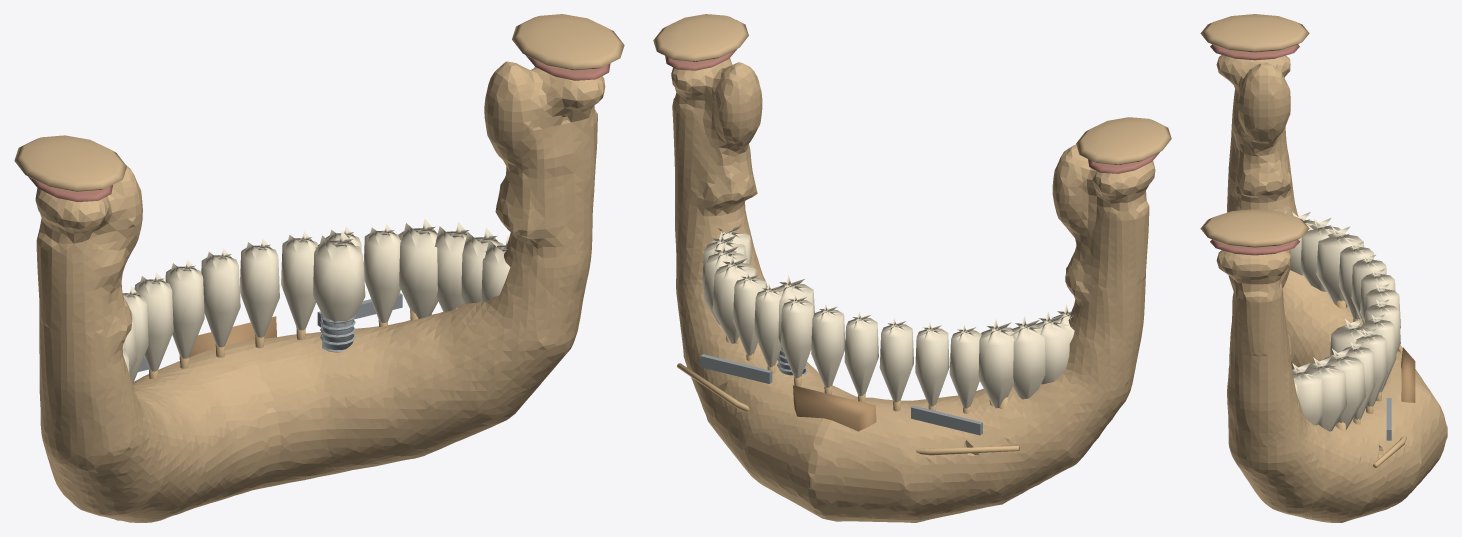
File: jaw.glb
3 views of the same model, side by side, from view 1: azimuth 30°, elevation 25°; view 2: azimuth 150°, elevation 25°; view 3: azimuth 270°, elevation 25° (orthographic). The views are drawn at different scales.
Visible parts, largest first — view 1: Mandible_Continuous, TMJ_Temporal_Fossa.001, TMJ_Temporal_Fossa, Implant_Ceramic_Crown_Crown, Teeth_13_Crown, Teeth_09_Crown, Teeth_08_Crown, Teeth_12_Crown, Teeth_07_Crown, Teeth_10_Crown, Teeth_06_Crown, Teeth_14_Crown (+6 smaller); view 2: Mandible_Continuous, TMJ_Temporal_Fossa, TMJ_Temporal_Fossa.001, Teeth_04_Crown, Mandible_Cutaway_Trabecular_Section, Teeth_03_Crown, Teeth_06_Crown, Teeth_08_Crown, Teeth_07_Crown, Teeth_09_Crown, Teeth_10_Crown, Teeth_05_Crown (+10 smaller); view 3: Mandible_Continuous, TMJ_Temporal_Fossa, TMJ_Temporal_Fossa.001, Teeth_04_Crown, Teeth_14_Crown, Teeth_13_Crown, Teeth_15_Crown, Teeth_03_Crown, Teeth_05_Crown, Teeth_11_Crown, Teeth_12_Crown, Teeth_06_Crown (+9 smaller).
Part boxes in pixels (x1,y1,x2,y2): Mandible_Continuous: [35, 61, 605, 522]; TMJ_Temporal_Fossa.001: [512, 14, 624, 70]; TMJ_Temporal_Fossa: [14, 135, 126, 191]; Implant_Ceramic_Crown_Crown: [313, 231, 365, 324]; Teeth_13_Crown: [398, 218, 438, 318]; Teeth_09_Crown: [239, 239, 279, 337]; Teeth_08_Crown: [201, 248, 240, 347]; Teeth_12_Crown: [363, 224, 401, 322]; Teeth_07_Crown: [165, 259, 204, 358]; Teeth_10_Crown: [281, 231, 317, 330]; Teeth_06_Crown: [134, 272, 173, 371]; Teeth_14_Crown: [434, 221, 469, 312]; Mandible_Continuous: [671, 58, 1155, 522]; TMJ_Temporal_Fossa: [1076, 117, 1171, 165]; TMJ_Temporal_Fossa.001: [653, 14, 748, 62]; Teeth_04_Crown: [978, 319, 1014, 408]; Mandible_Cutaway_Trabecular_Section: [793, 385, 876, 431]; Teeth_03_Crown: [1010, 316, 1045, 399]; Teeth_06_Crown: [915, 322, 949, 406]; Teeth_08_Crown: [844, 312, 878, 395]; Teeth_07_Crown: [879, 318, 913, 402]; Teeth_09_Crown: [811, 304, 845, 387]; Teeth_10_Crown: [780, 294, 813, 377]; Teeth_05_Crown: [949, 324, 981, 408]; Mandible_Continuous: [1216, 55, 1447, 522]; TMJ_Temporal_Fossa: [1200, 14, 1309, 52]; TMJ_Temporal_Fossa.001: [1200, 209, 1309, 247]; Teeth_04_Crown: [1316, 226, 1364, 307]; Teeth_14_Crown: [1305, 357, 1346, 431]; Teeth_13_Crown: [1323, 348, 1365, 429]; Teeth_15_Crown: [1292, 363, 1323, 425]; Teeth_03_Crown: [1300, 218, 1340, 291]; Teeth_05_Crown: [1339, 241, 1373, 319]; Teeth_11_Crown: [1355, 329, 1387, 406]; Teeth_12_Crown: [1342, 341, 1375, 419]; Teeth_06_Crown: [1351, 254, 1386, 324].
Size of the model in its own units: 7.5 by 5.5 by 3.39.
